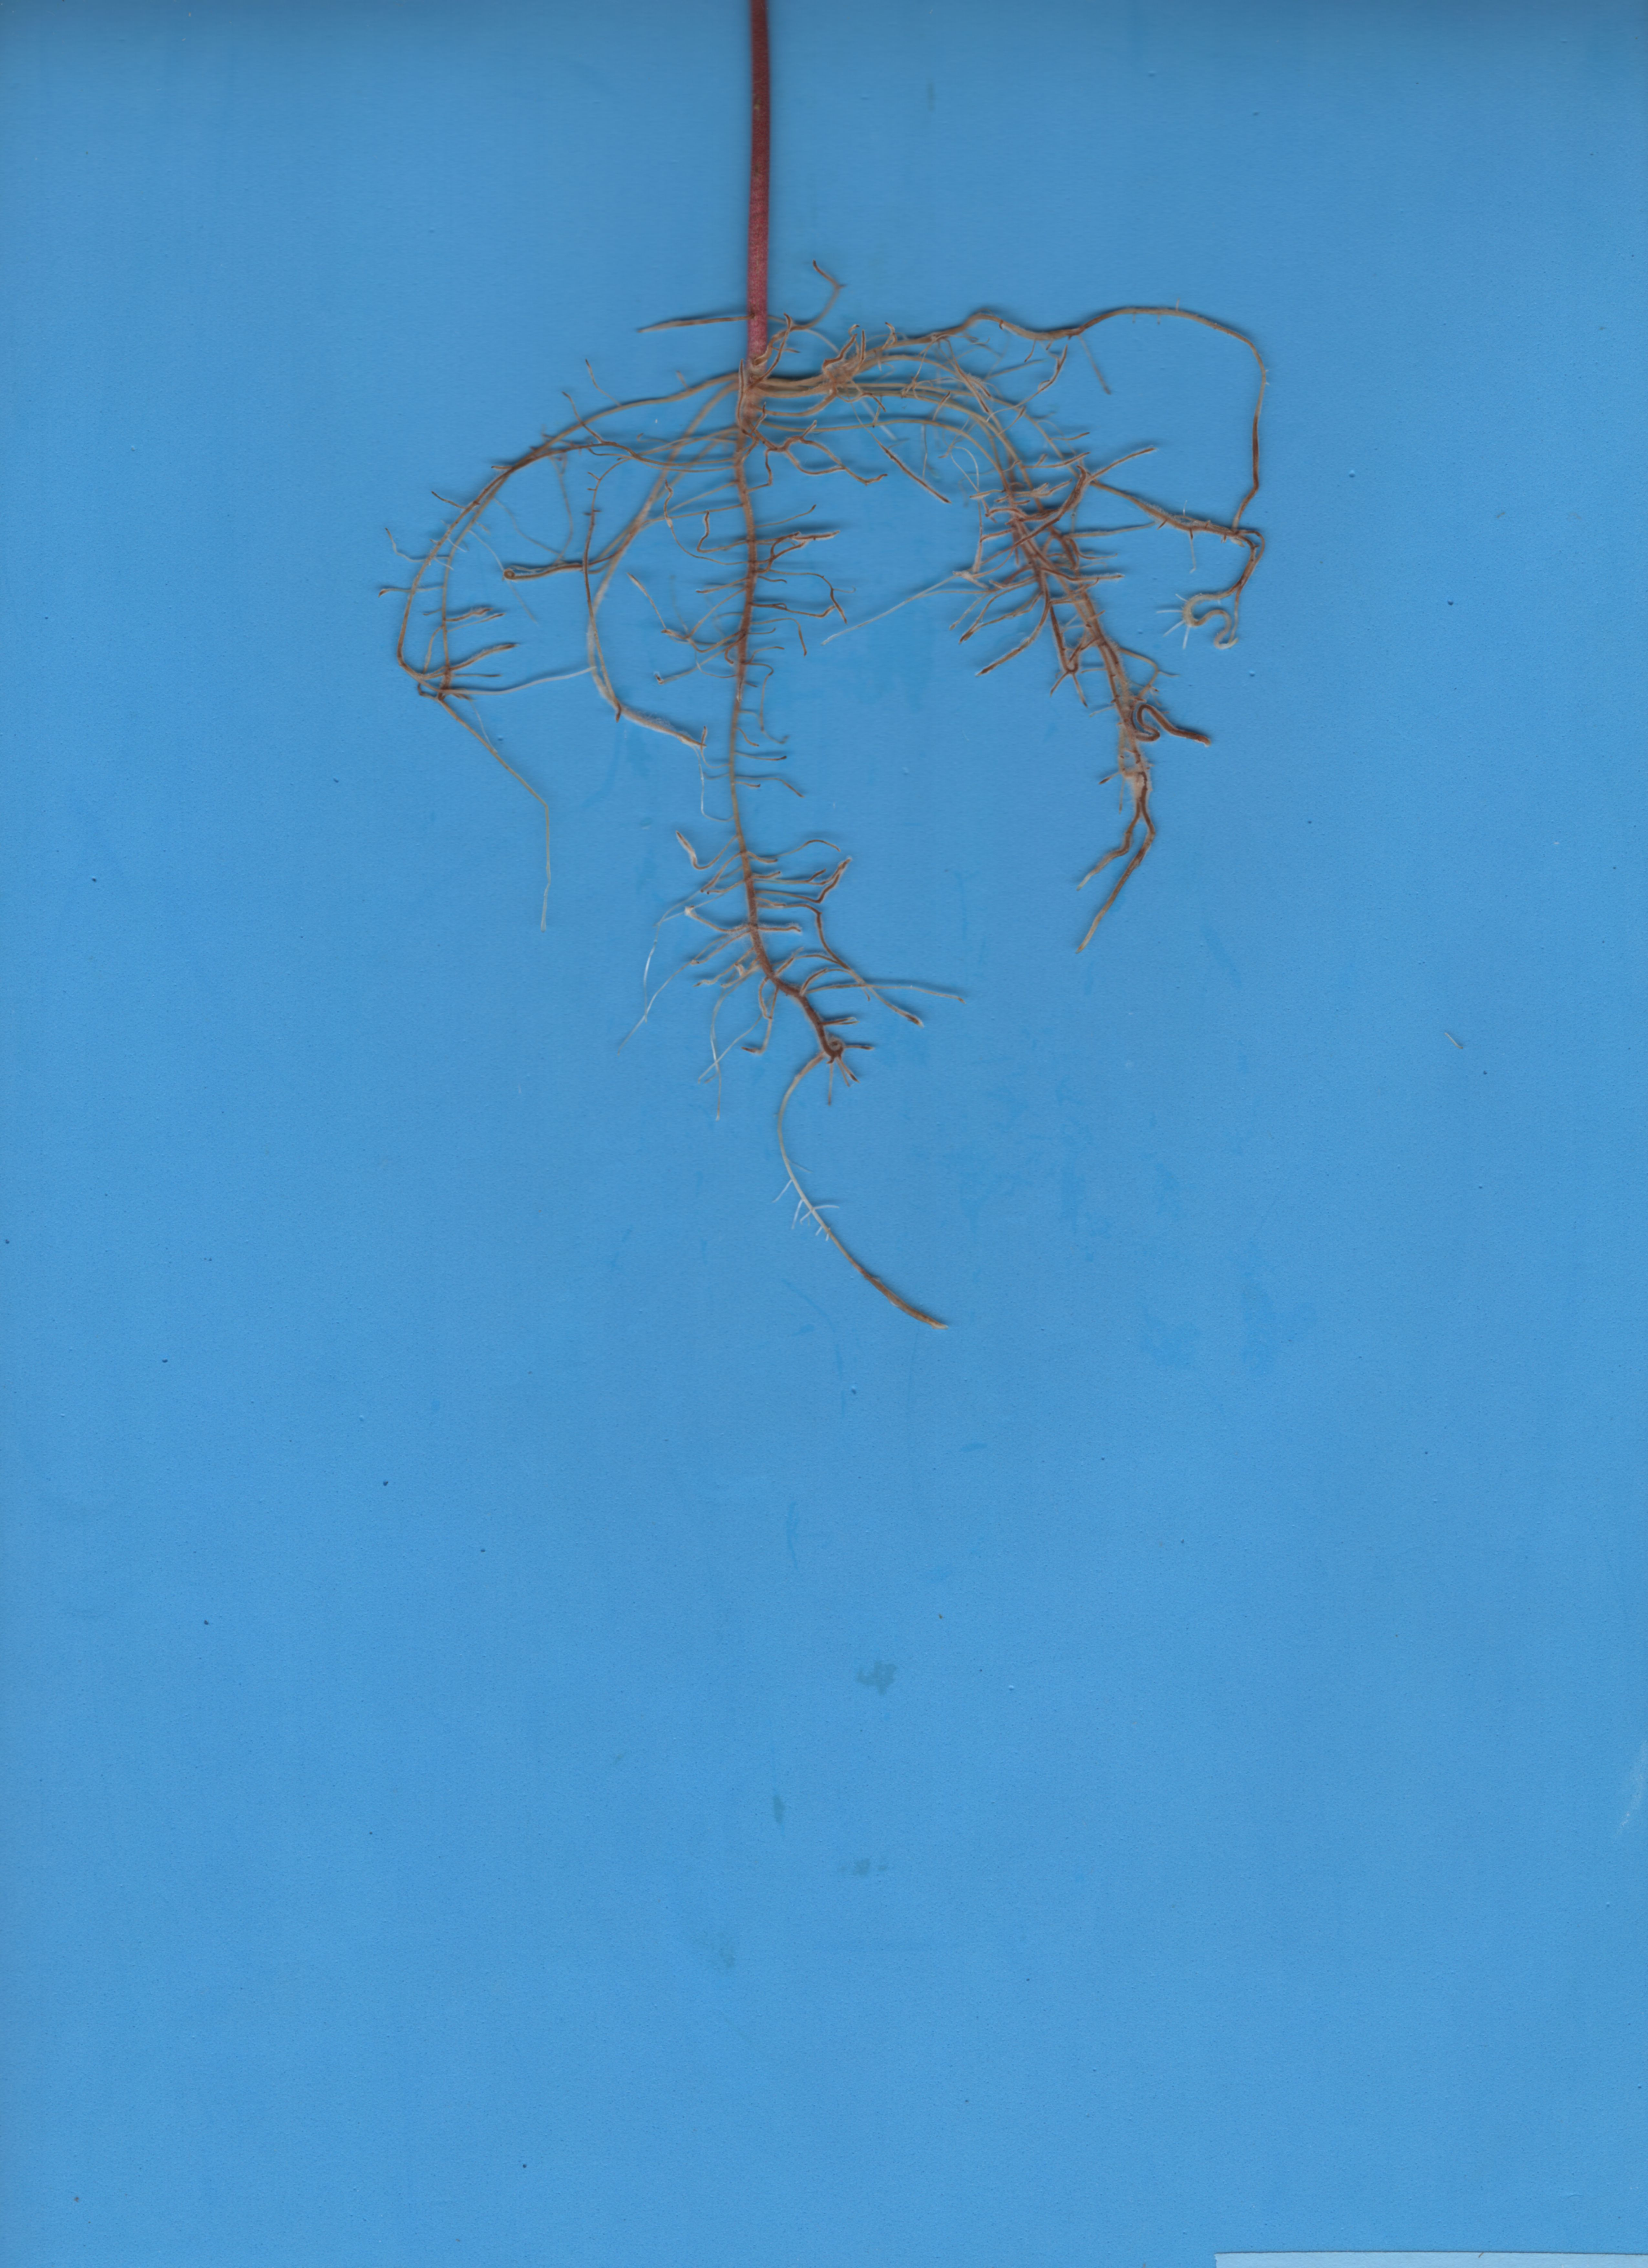CROWNDISEASE: (692, 0, 819, 382)
ROOTDISEASE: (331, 299, 1303, 1363)
